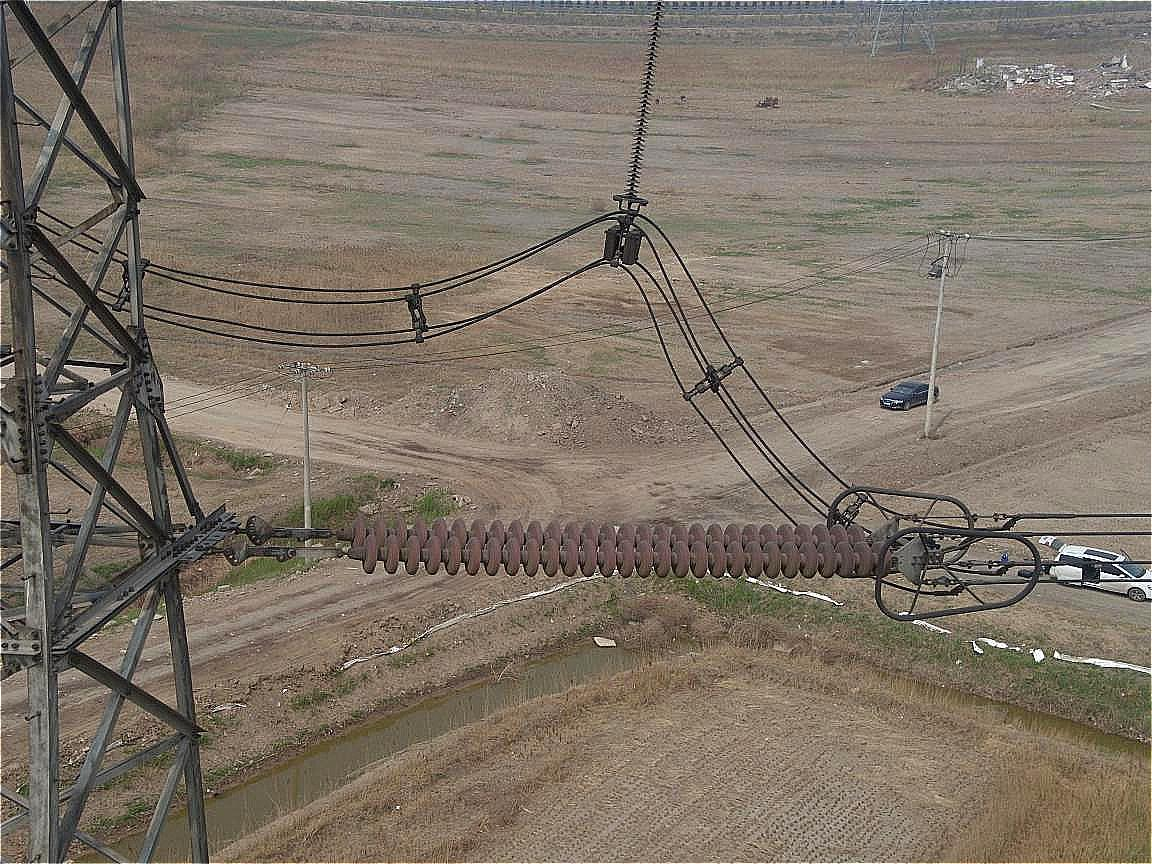insultor1: (278, 488, 959, 591)
